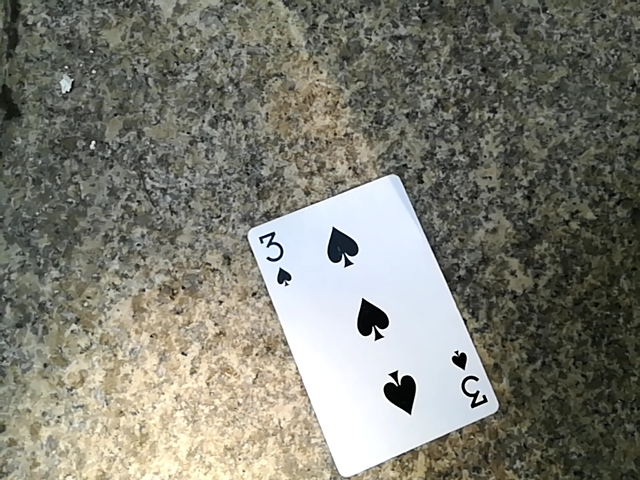ht 3: (243, 179, 485, 479)
